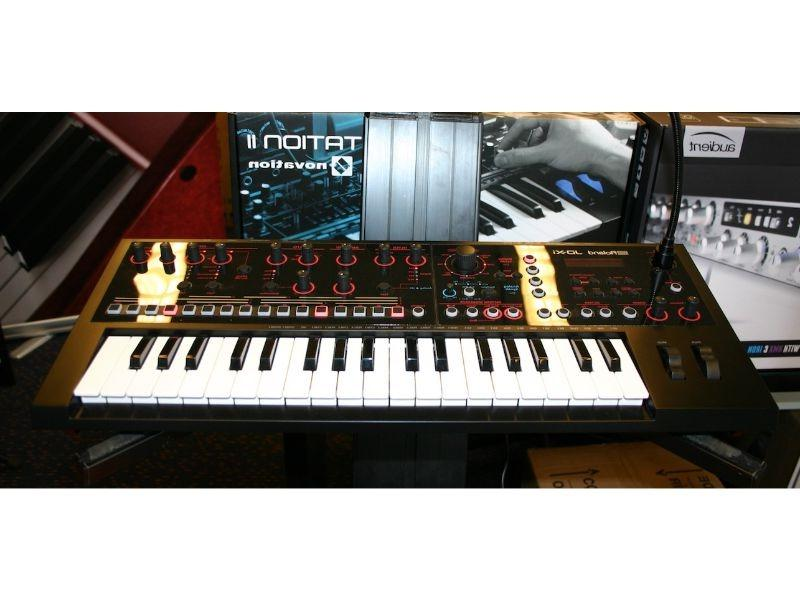synthesizer: (51, 212, 761, 448)
